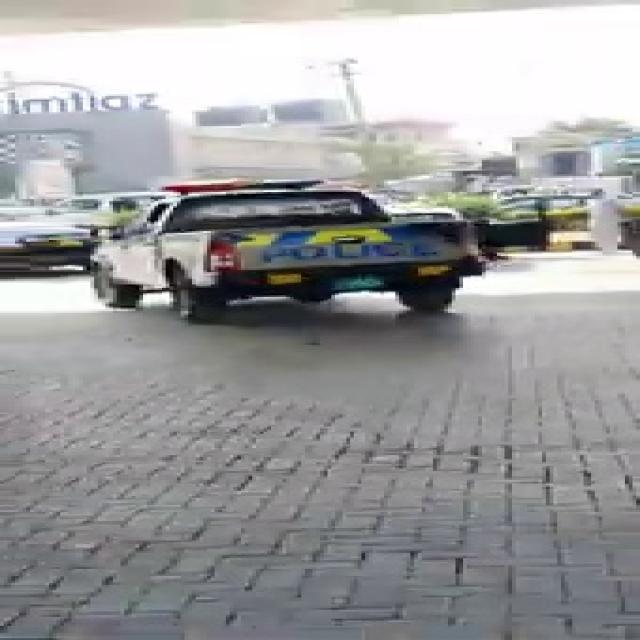police: (64, 160, 539, 322)
